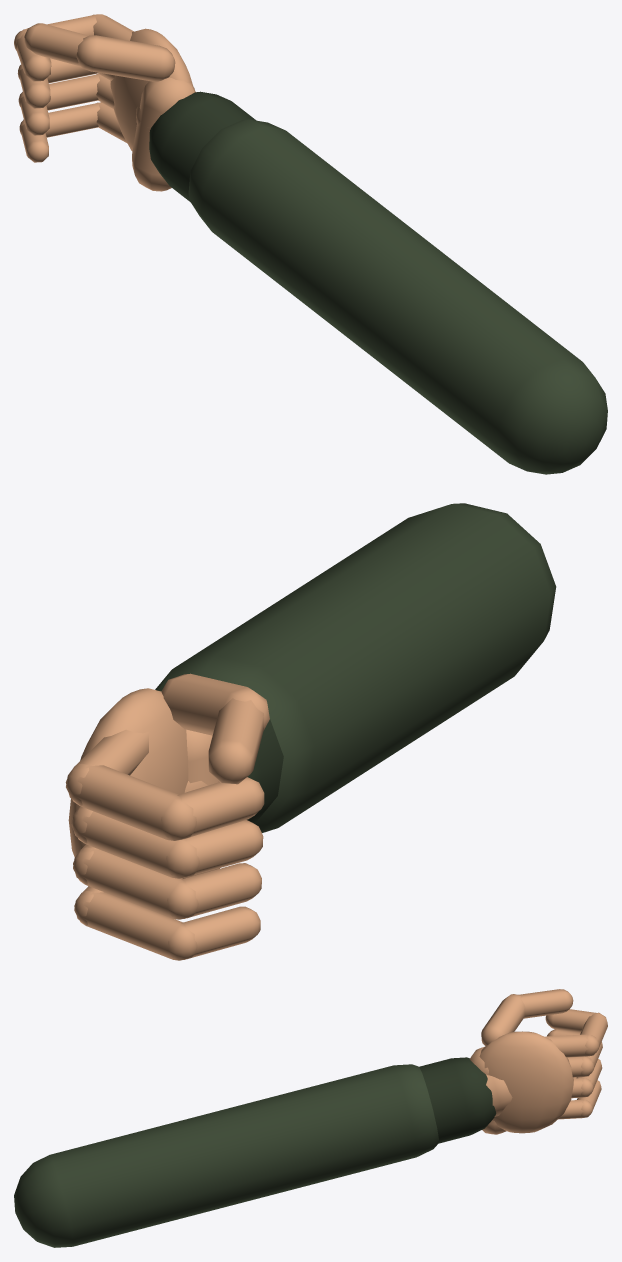
File: hands.glb
3 renders of one model, top to bottom at view 1: azimuth 30°, elevation 25°; view 2: azimuth 150°, elevation 25°; view 3: azimuth 270°, elevation 25°, orthographic. The views are drawn at different scales.
Visible parts, largest first — view 1: hands; view 2: hands; view 3: hands.
Part boxes in pixels (x1,y1,x2,y2): hands: (14,14,607,474); hands: (65,503,556,960); hands: (14,989,607,1247).
Bounding box in the file's own units: 7.21 × 6.96 × 19.79.
